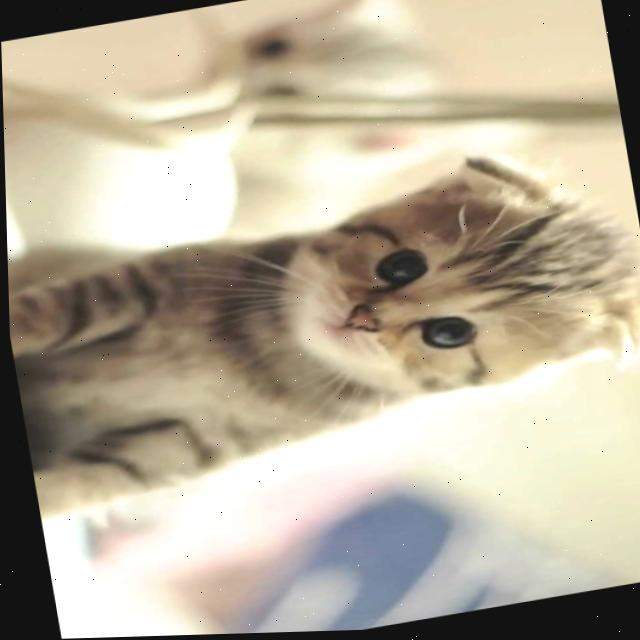Scottish Fold: (3, 131, 640, 522)
